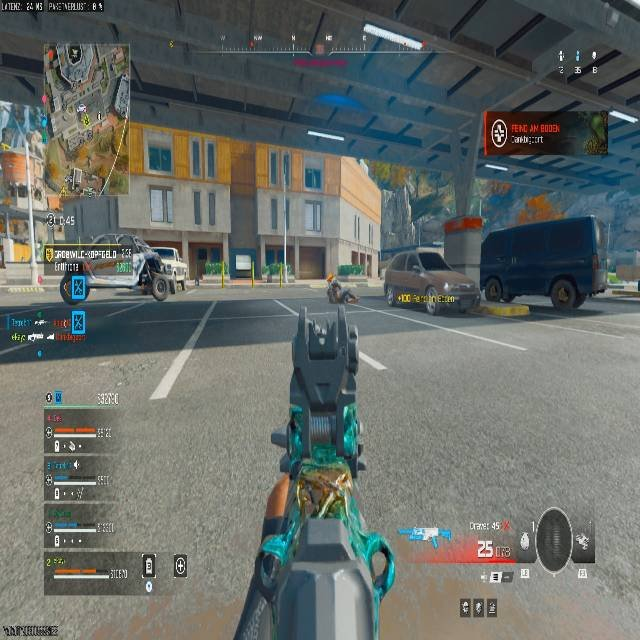player: (58, 264, 93, 341), (59, 257, 94, 303), (328, 281, 358, 306)
